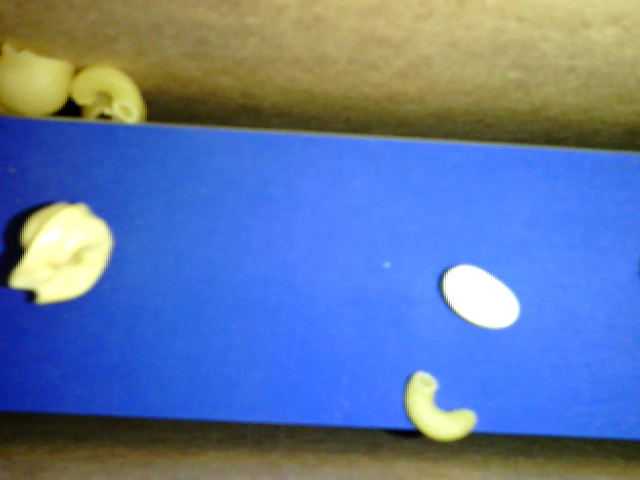elbow: (405, 370, 477, 440), (70, 63, 140, 121)
shell: (1, 44, 74, 117), (83, 92, 147, 123)
tortellini: (8, 200, 112, 303)
